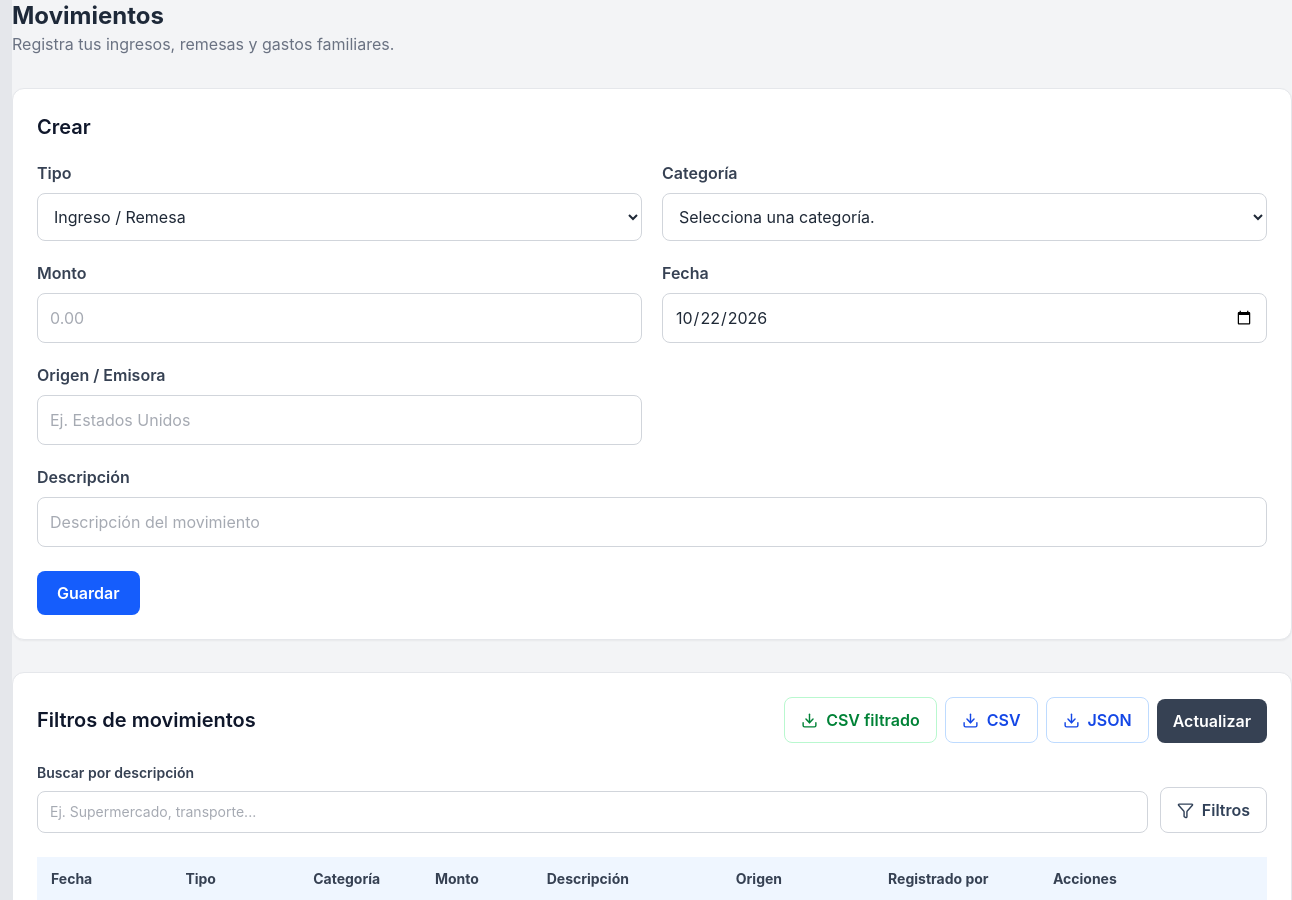
Scenario: Movimientos — filtros › muestra el estado vacío cuando nada coincide
This screenshot has width=1292, height=900.
Type "zzz-no-existe" into the field with id "busquedaMovimientos". click: (592, 812)
box: [37,791,1148,833]
(page scrolled)
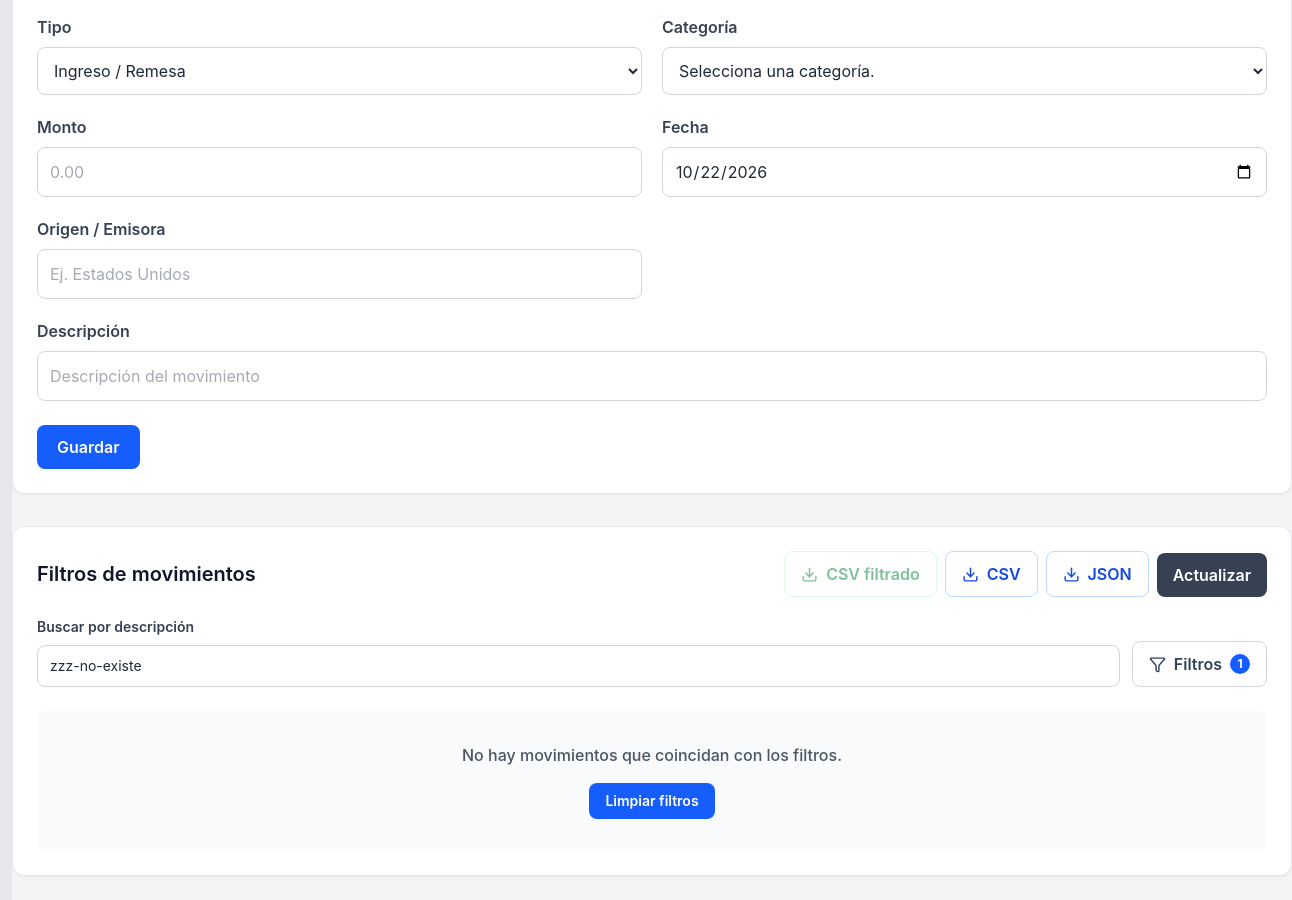
Result: the text "No hay movimientos que coincidan con los filtros." is shown at [462,745,842,765]
